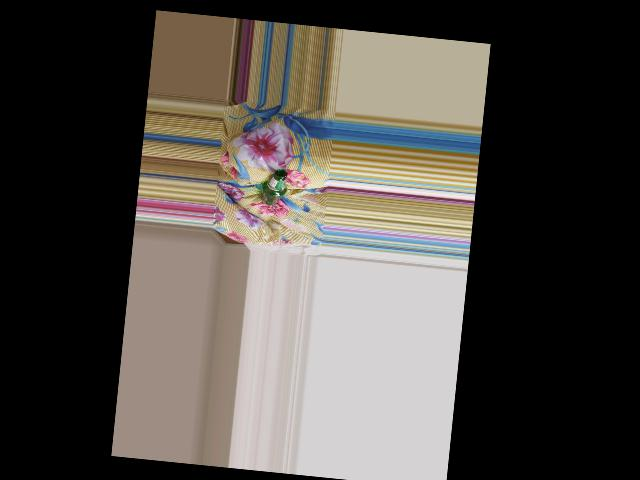beer: (261, 167, 288, 206)
